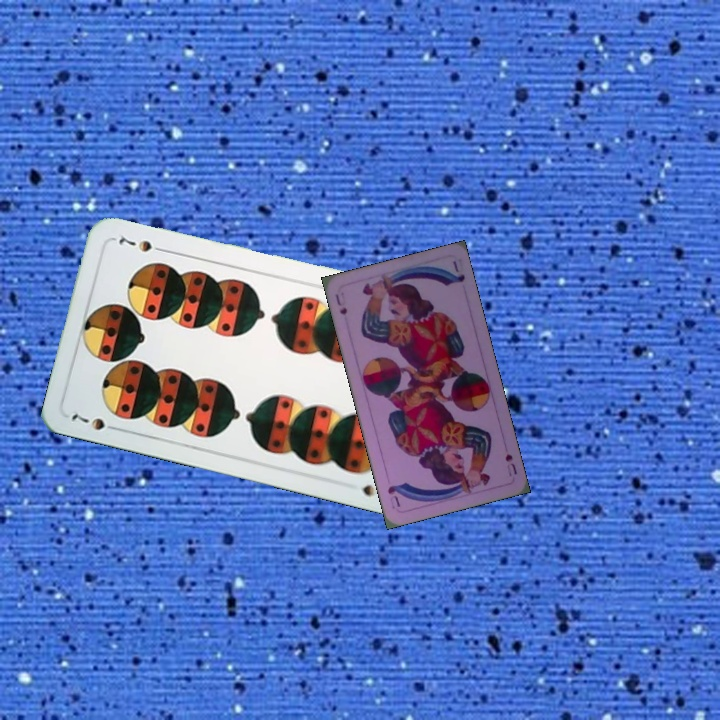S7: (67, 410, 124, 434)
SU: (501, 450, 520, 479), (331, 290, 350, 317)
